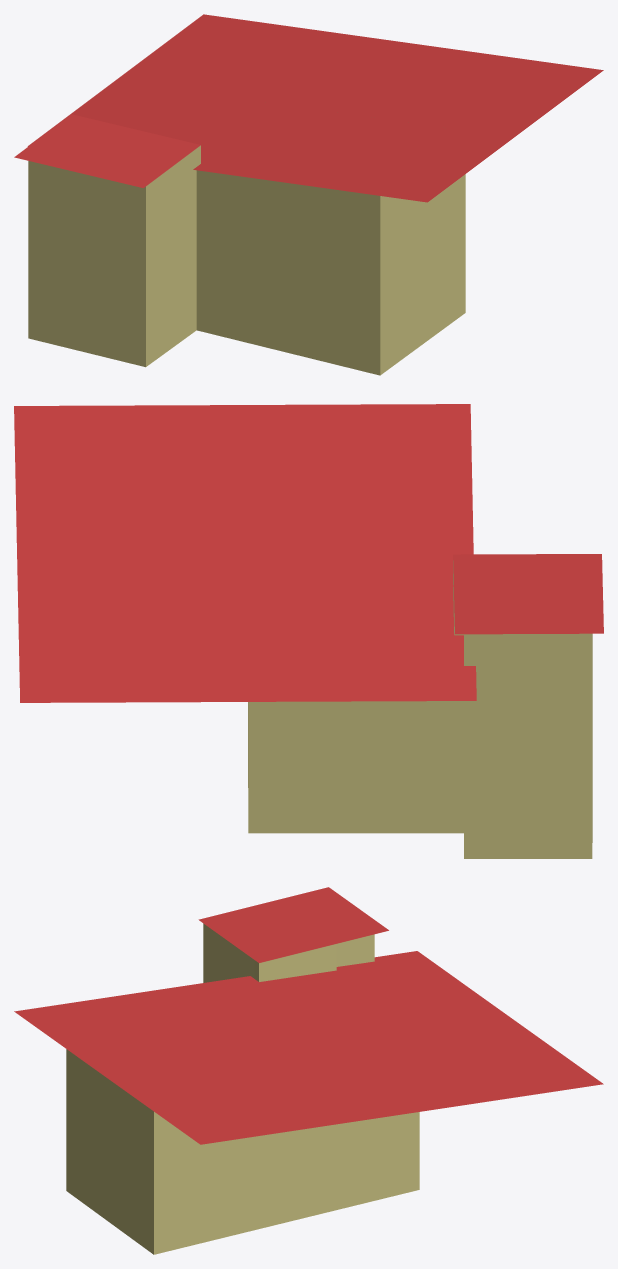
3 views of the same model, one above another, from view 1: azimuth 30°, elevation 25°; view 2: azimuth 150°, elevation 25°; view 3: azimuth 270°, elevation 25° (orthographic). The views are drawn at different scales.
Bounding box in the file's own units: 42.43 × 40.33 × 14.35.
